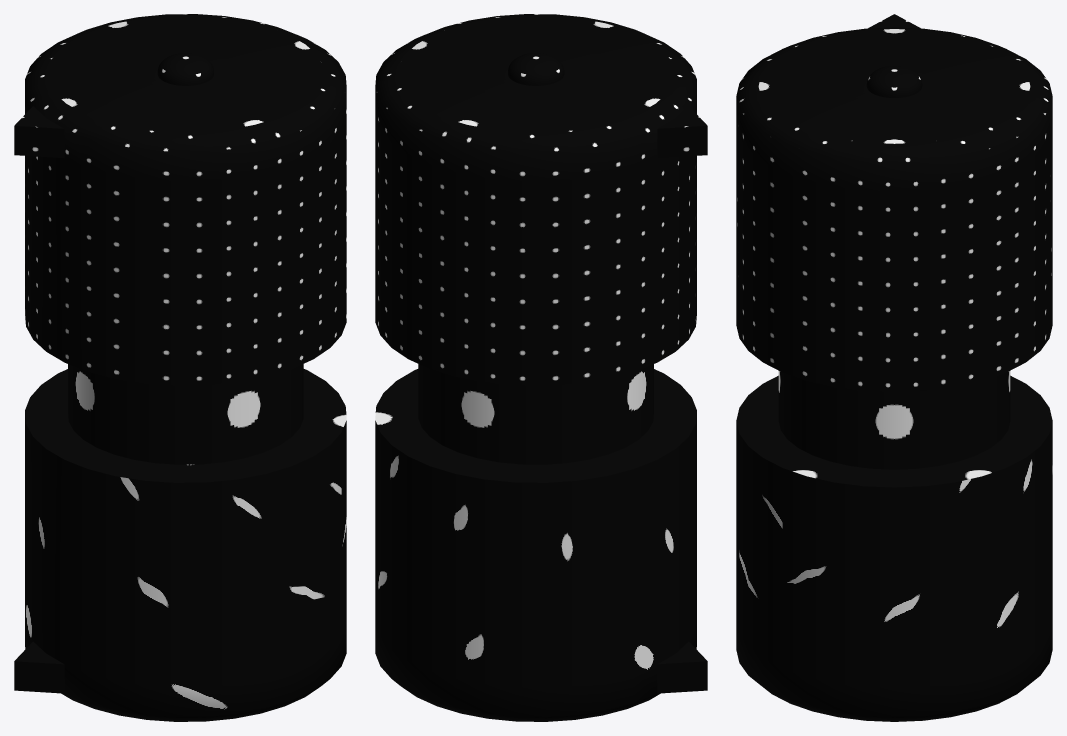
File: PuzzleBlock.fbx
3 views of the same model, side by side, from view 1: azimuth 30°, elevation 25°; view 2: azimuth 150°, elevation 25°; view 3: azimuth 270°, elevation 25° (orthographic).
Visible parts, largest first — view 1: FWD_SIDE, BCK_SIDE, Linker; view 2: FWD_SIDE, BCK_SIDE, Linker; view 3: FWD_SIDE, BCK_SIDE, Linker.
Part boxes in pixels (box(x1,y1,x2,y2)): FWD_SIDE: box(14, 14, 346, 385); BCK_SIDE: box(14, 369, 346, 721); Linker: box(68, 364, 303, 464); FWD_SIDE: box(375, 14, 707, 385); BCK_SIDE: box(375, 369, 707, 721); Linker: box(418, 364, 653, 464); FWD_SIDE: box(736, 14, 1052, 392); BCK_SIDE: box(736, 375, 1052, 721); Linker: box(778, 371, 1010, 469).
Bounding box in the file's own units: 1.11 × 2.11 × 1.
